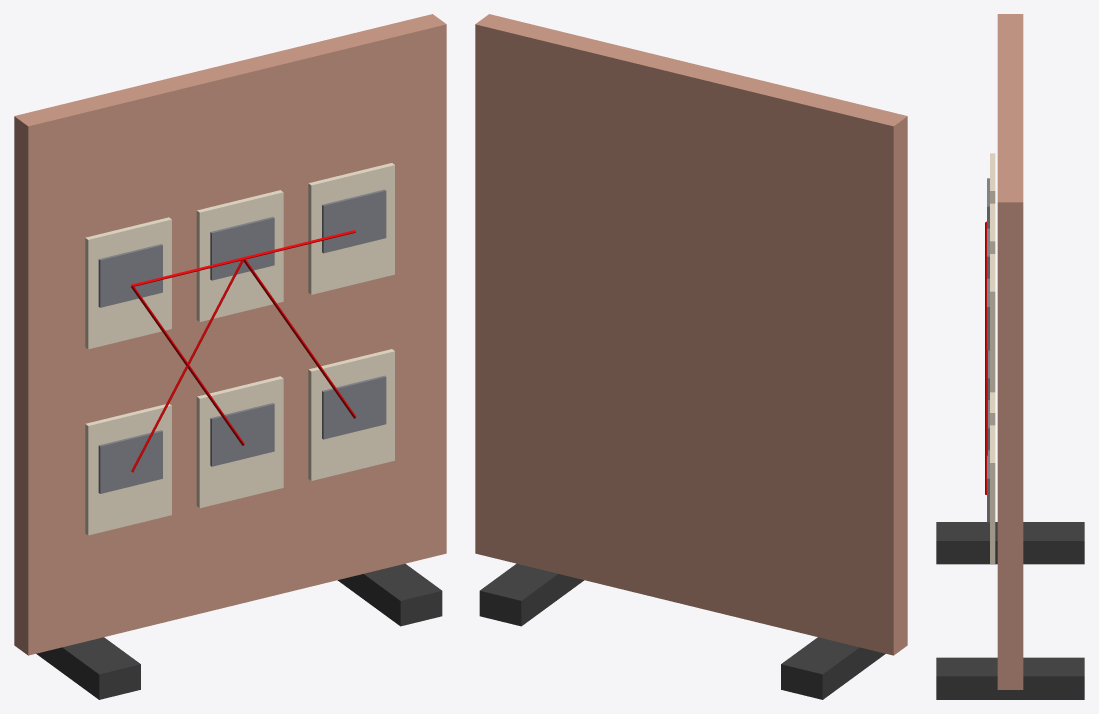
The picture shows the model from 3 angles, left to right: view 1: azimuth 30°, elevation 25°; view 2: azimuth 150°, elevation 25°; view 3: azimuth 270°, elevation 25°; orthographic projection. The views are drawn at different scales.
Visible parts, largest first — view 1: Panel, Fictional evidence card.001, Fictional evidence card.005, Fictional evidence card, Fictional evidence card.002, Fictional evidence card.004, Fictional evidence card.003, Panel foot.001, Panel foot, Geometric photo placeholder.005, Geometric photo placeholder, Geometric photo placeholder.001 (+7 smaller); view 2: Panel, Panel foot.001, Panel foot; view 3: Panel, Panel foot.001, Panel foot, Fictional evidence card.002, Fictional evidence card.005, Relationship string.002, Fictional evidence card.003, Fictional evidence card.004.
Part boxes in pixels (left/top/right/bottom): Panel: left=14, top=14, right=446, bottom=655; Fictional evidence card.001: left=196, top=376, right=283, bottom=508; Fictional evidence card.005: left=308, top=163, right=394, bottom=294; Fictional evidence card: left=85, top=404, right=171, bottom=535; Fictional evidence card.002: left=308, top=349, right=394, bottom=480; Fictional evidence card.004: left=196, top=190, right=283, bottom=321; Fictional evidence card.003: left=85, top=217, right=171, bottom=349; Panel foot.001: left=337, top=563, right=442, bottom=626; Panel foot: left=36, top=637, right=140, bottom=699; Geometric photo placeholder.005: left=322, top=189, right=386, bottom=253; Geometric photo placeholder: left=98, top=430, right=162, bottom=493; Geometric photo placeholder.001: left=210, top=403, right=274, bottom=466; Panel: left=475, top=14, right=907, bottom=655; Panel foot.001: left=479, top=563, right=584, bottom=626; Panel foot: left=781, top=637, right=885, bottom=699; Panel: left=997, top=14, right=1023, bottom=689; Panel foot.001: left=936, top=657, right=1084, bottom=699; Panel foot: left=936, top=522, right=1084, bottom=564; Fictional evidence card.002: left=990, top=425, right=995, bottom=563; Fictional evidence card.005: left=990, top=254, right=995, bottom=392; Relationship string.002: left=985, top=323, right=987, bottom=494; Fictional evidence card.003: left=990, top=153, right=995, bottom=203; Fictional evidence card.004: left=990, top=203, right=995, bottom=253.
Size of the model in its own units: 1.2 by 1.53 by 0.4.
1 material, 1 textured.
